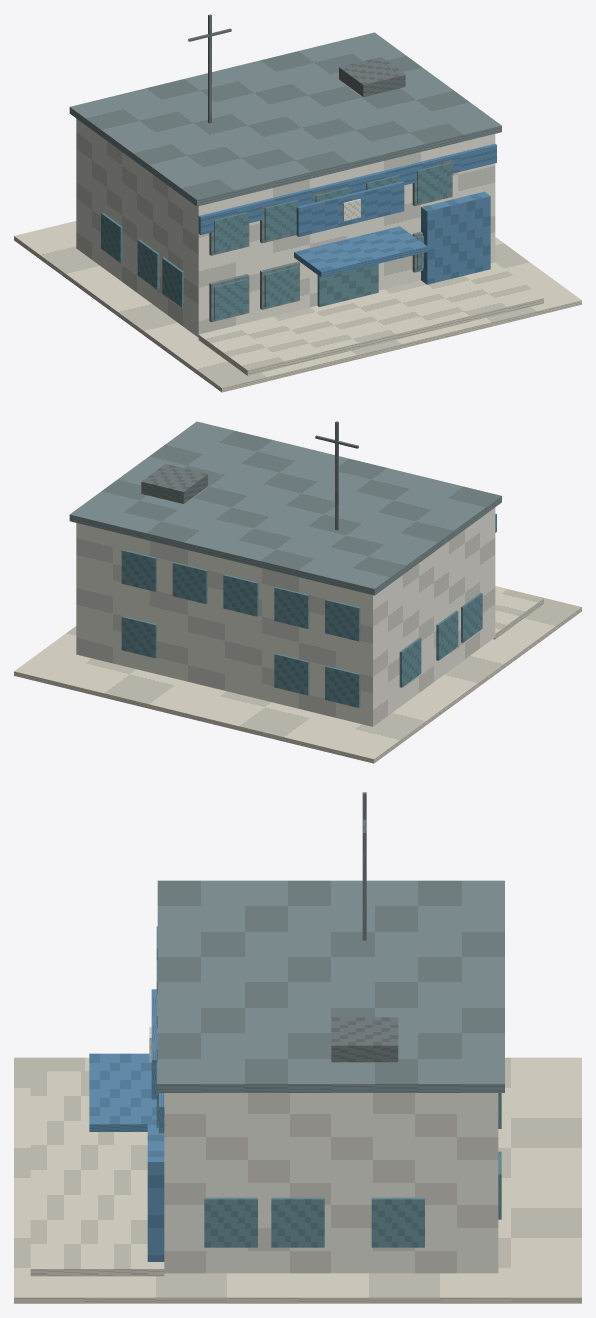
The model's file is police.glb.
The picture shows the model from 3 angles, top to bottom: view 1: azimuth 30°, elevation 25°; view 2: azimuth 150°, elevation 25°; view 3: azimuth 270°, elevation 25°; orthographic projection. The views are drawn at different scales.
Visible parts, largest first — view 1: Flat roof coping, Public building, Entry plaza, Service forecourt, Window glass (×5), Blue reception wing, Facade color band, Entry canopy, Police sign, Side window (×3), Air conditioning, Glazed entry (+1 smaller); view 2: Public building, Flat roof coping, Service forecourt, Rear window (×8), Side window (×3), Air conditioning, Entry plaza; view 3: Flat roof coping, Public building, Service forecourt, Entry plaza, Side window (×3), Entry canopy, Air conditioning, Blue reception wing, Radio mast, Police sign.
Part boxes in pixels (<box>): Flat roof coping: <box>69,32,501,206</box>; Public building: <box>76,118,495,337</box>; Entry plaza: <box>198,262,543,375</box>; Service forecourt: <box>14,221,581,392</box>; Window glass (×5): <box>214,162,450,319</box>; Blue reception wing: <box>421,191,490,284</box>; Facade color band: <box>198,143,496,234</box>; Entry canopy: <box>294,226,427,277</box>; Police sign: <box>296,181,404,236</box>; Side window (×3): <box>101,213,183,307</box>; Air conditioning: <box>339,57,405,96</box>; Glazed entry: <box>317,264,378,306</box>; Public building: <box>76,507,495,726</box>; Flat roof coping: <box>69,421,501,595</box>; Service forecourt: <box>14,586,581,763</box>; Rear window (×8): <box>121,549,360,707</box>; Side window (×3): <box>399,592,482,687</box>; Air conditioning: <box>141,464,207,503</box>; Entry plaza: <box>493,586,543,639</box>; Flat roof coping: <box>157,880,504,1092</box>; Public building: <box>164,1093,498,1273</box>; Service forecourt: <box>14,1057,581,1303</box>; Entry plaza: <box>30,1071,164,1276</box>; Side window (×3): <box>204,1197,424,1247</box>; Entry canopy: <box>89,1053,156,1131</box>; Air conditioning: <box>331,1017,398,1062</box>; Blue reception wing: <box>147,1119,164,1261</box>; Radio mast: <box>362,792,366,940</box>; Police sign: <box>151,989,156,1099</box>.
Bounding box in the file's own units: 17 × 11.5 × 17.
6 materials, 6 textured.
